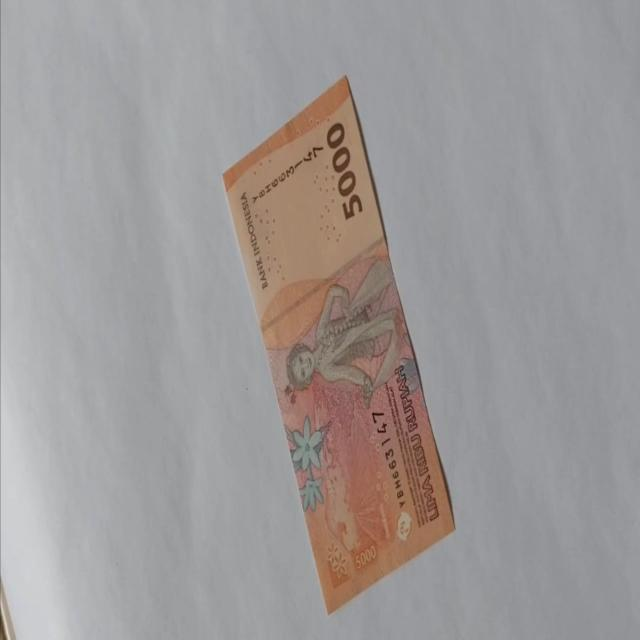lima ribu rupiah: (222, 74, 456, 616)
